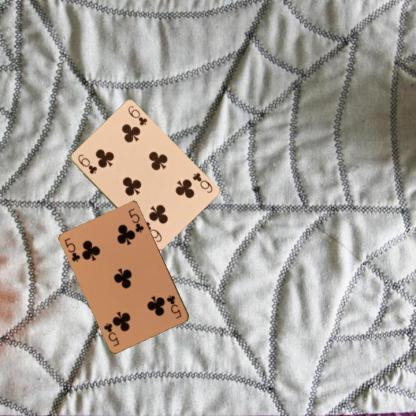5c: (62, 235, 82, 264), (164, 292, 183, 320)
6c: (189, 170, 214, 194), (75, 151, 98, 175)
